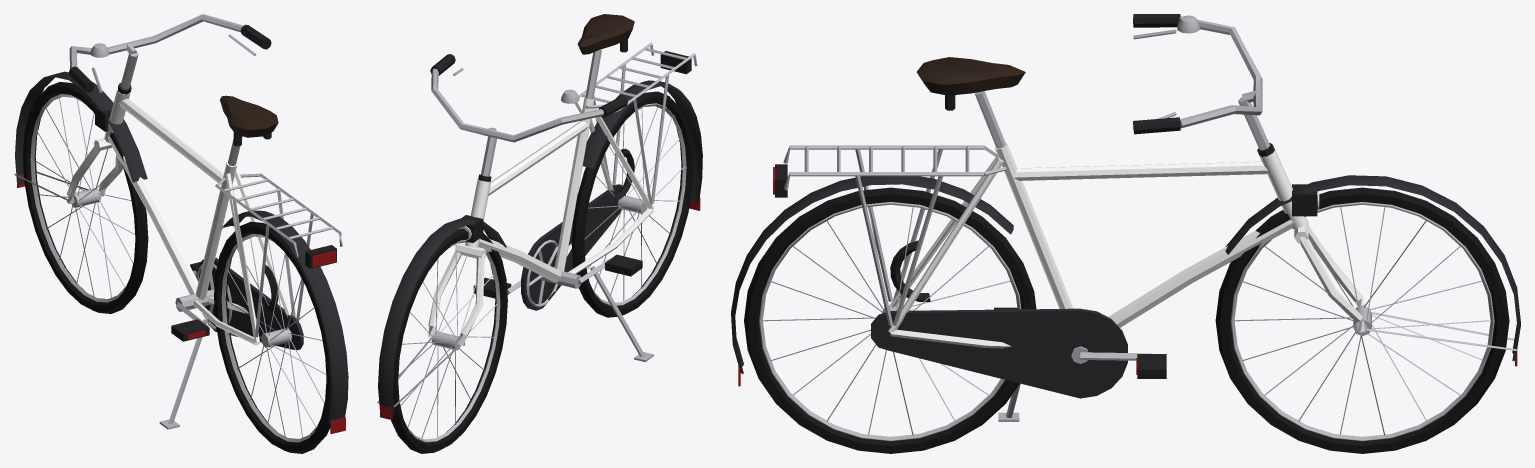
Rendered from bike.glb.
3 views of the same model, side by side, from view 1: azimuth 30°, elevation 25°; view 2: azimuth 150°, elevation 25°; view 3: azimuth 270°, elevation 25° (orthographic). The views are drawn at different scales.
Visible parts, largest first — view 1: Frame, WheelF, WheelR, FramePaint, Steer, ForkPaint, Crank, Stand, PedalL; view 2: Frame, WheelR, Steer, WheelF, FramePaint, ForkPaint, Crank, Stand, PedalL; view 3: Frame, WheelF, WheelR, FramePaint, Steer, ForkPaint, PedalR.
Boxes of the visible parts, x1=… form: Frame: x1=196, y1=95, x2=348, y2=433; WheelF: x1=22, y1=82, x2=148, y2=313; WheelR: x1=214, y1=221, x2=331, y2=453; FramePaint: x1=104, y1=88, x2=290, y2=345; Steer: x1=14, y1=14, x2=271, y2=200; ForkPaint: x1=66, y1=137, x2=122, y2=203; Crank: x1=175, y1=263, x2=232, y2=329; Stand: x1=159, y1=319, x2=207, y2=429; PedalL: x1=171, y1=319, x2=209, y2=341; Frame: x1=521, y1=14, x2=702, y2=310; WheelR: x1=571, y1=91, x2=693, y2=317; Steer: x1=377, y1=54, x2=627, y2=419; WheelF: x1=391, y1=228, x2=507, y2=453; FramePaint: x1=465, y1=97, x2=653, y2=282; ForkPaint: x1=428, y1=243, x2=486, y2=345; Crank: x1=507, y1=239, x2=609, y2=307; Stand: x1=590, y1=266, x2=653, y2=362; PedalL: x1=605, y1=254, x2=642, y2=276; Frame: x1=731, y1=57, x2=1127, y2=398; WheelF: x1=1215, y1=187, x2=1509, y2=453; WheelR: x1=744, y1=187, x2=1036, y2=453; FramePaint: x1=888, y1=143, x2=1307, y2=348; Steer: x1=1133, y1=14, x2=1520, y2=366; ForkPaint: x1=1294, y1=217, x2=1367, y2=332; PedalR: x1=1136, y1=354, x2=1166, y2=378.
Size of the model in its own units: 0.6339 by 1.06 by 1.88.
